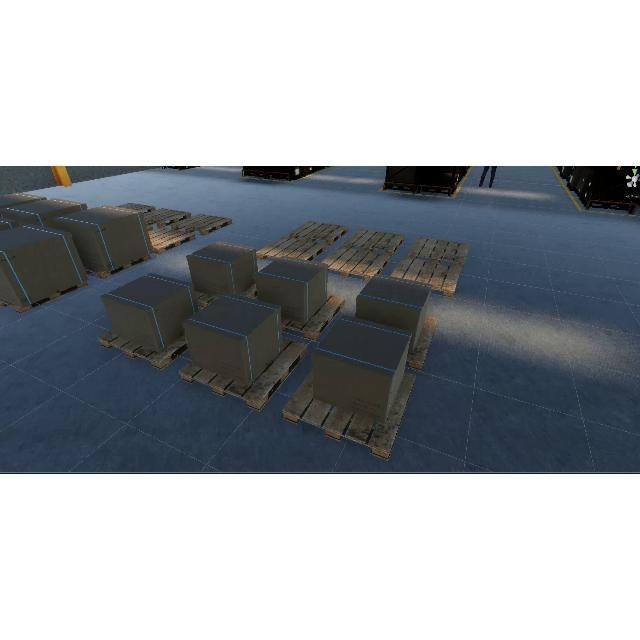wooden_pallet: (280, 368, 417, 460), (179, 337, 309, 412), (97, 329, 189, 370), (280, 289, 346, 340), (0, 278, 88, 314), (390, 257, 463, 298), (321, 246, 390, 280), (407, 234, 471, 269), (405, 315, 439, 374), (84, 253, 152, 280), (257, 236, 327, 262), (344, 227, 406, 256), (289, 220, 350, 245), (171, 213, 234, 236), (147, 225, 195, 255), (143, 207, 191, 228), (115, 201, 156, 215)
